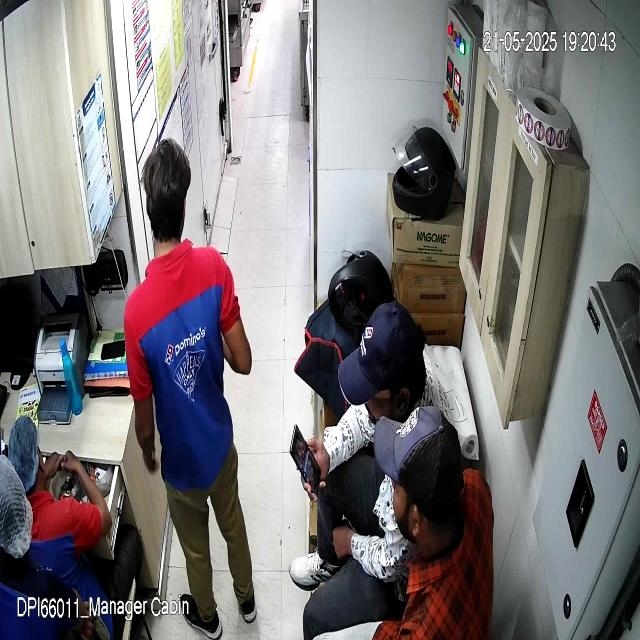helmet: (392, 125, 457, 219), (329, 245, 394, 332)
no_helmet: (373, 402, 463, 556), (335, 300, 425, 425), (143, 138, 191, 238)
